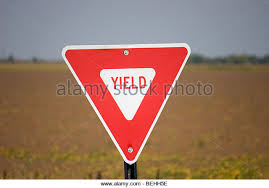yield_sign: (61, 43, 192, 163)
